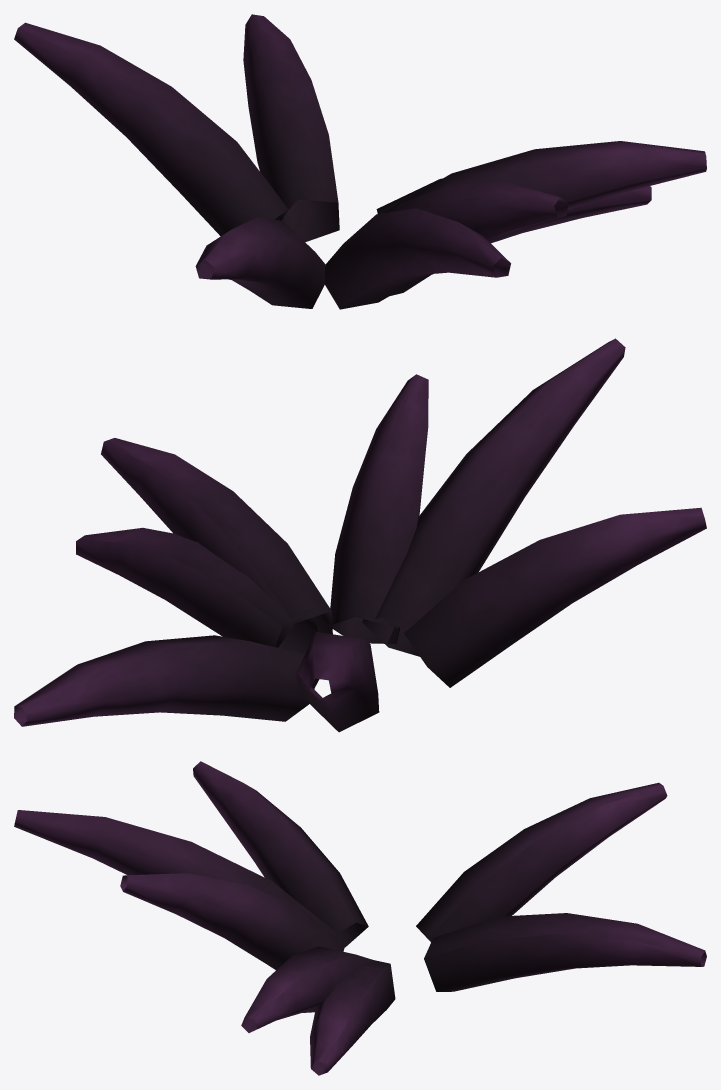
The model's file is ergot.glb.
3 views of the same model, one above another, from view 1: azimuth 30°, elevation 25°; view 2: azimuth 150°, elevation 25°; view 3: azimuth 270°, elevation 25° (orthographic). The views are drawn at different scales.
Visible parts, largest first — view 1: ergot; view 2: ergot; view 3: ergot.
Boxes of the visible parts, left/top/right/bottom form: ergot: left=14, top=14, right=706, bottom=309; ergot: left=14, top=338, right=706, bottom=732; ergot: left=14, top=761, right=706, bottom=1075.
Size of the model in its own units: 0.069 by 0.0231 by 0.0902.
Materials: 1 (1 with a texture image).
